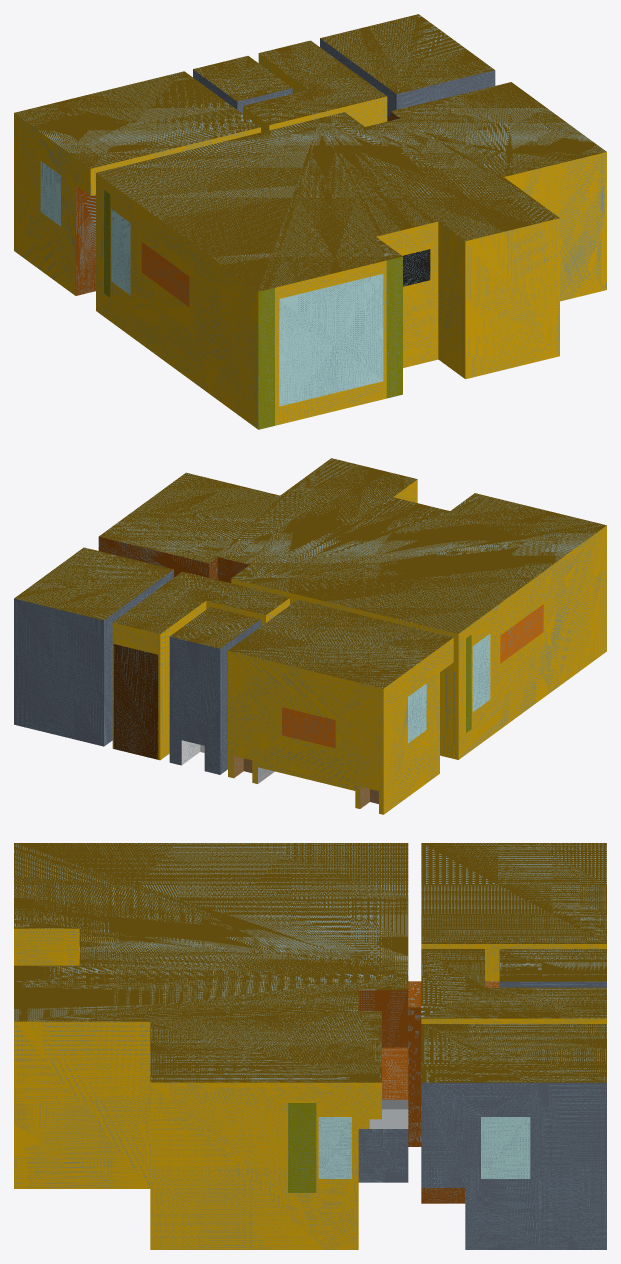
Rendered from ASN_humans.dae.
3 views of the same model, one above another, from view 1: azimuth 30°, elevation 25°; view 2: azimuth 150°, elevation 25°; view 3: azimuth 270°, elevation 25° (orthographic). The views are drawn at different scales.
Parts seen in each view (by area): view 1: SketchUp (×21); view 2: SketchUp (×17); view 3: SketchUp (×18).
Boxes of the visible parts, left/top/right/bottom form: SketchUp (×21): left=14, top=14, right=606, bottom=429; SketchUp (×17): left=14, top=458, right=606, bottom=814; SketchUp (×18): left=14, top=843, right=606, bottom=1249.
Size of the model in its own units: 290 by 303 by 94.49.
